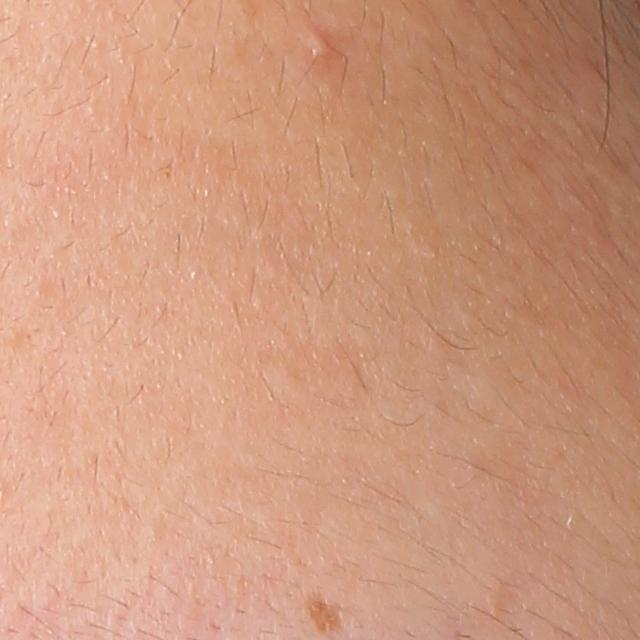papule: (301, 30, 334, 67)
